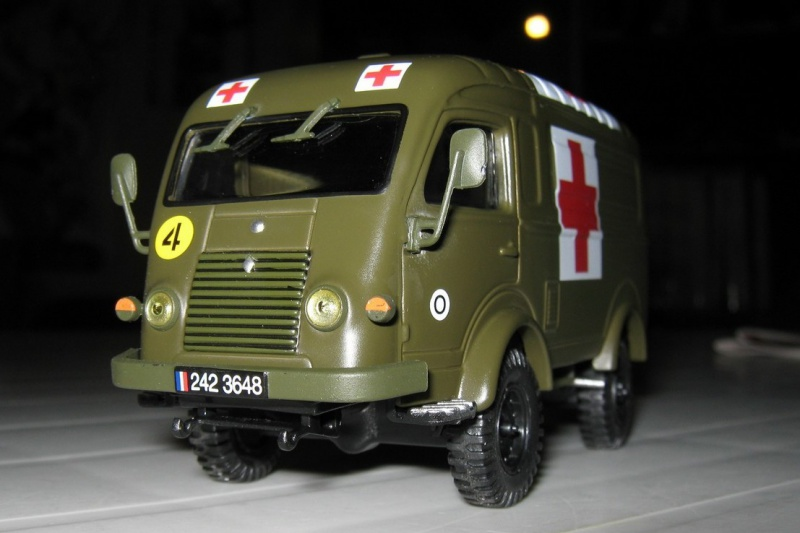license_plate: (171, 363, 269, 400)
